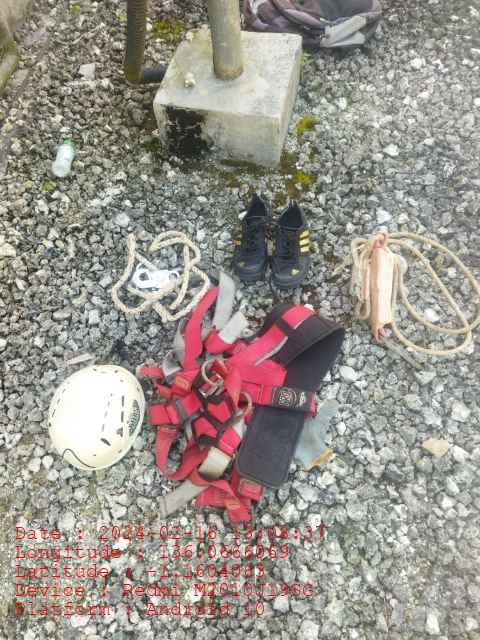HELM: (48, 364, 145, 469)
SEPATU: (236, 192, 311, 291)
TAMBANG_SLING: (111, 229, 210, 321)
